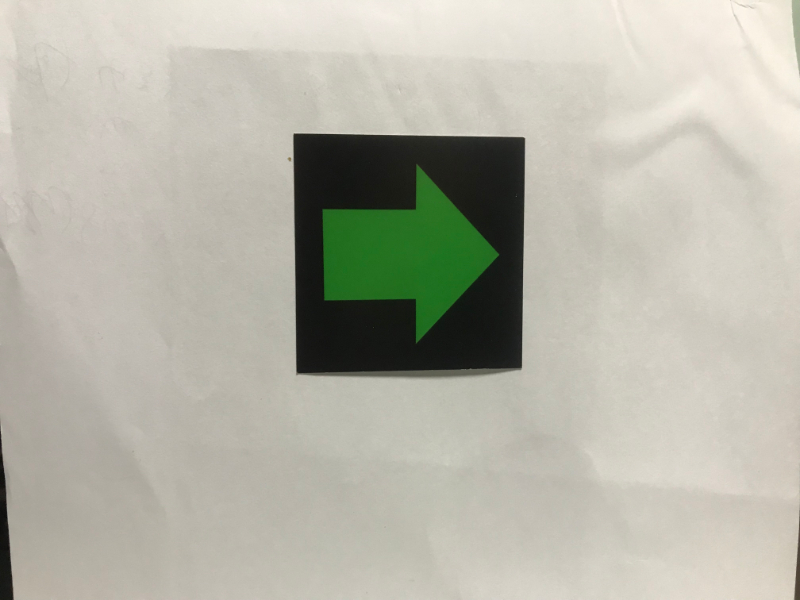RA-3: (300, 141, 516, 363)
